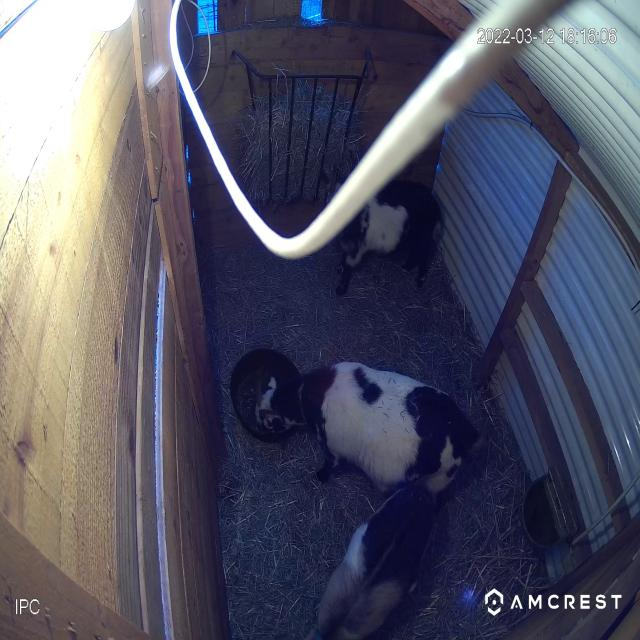goat: (249, 334, 487, 508), (300, 464, 480, 638), (316, 166, 456, 312)
